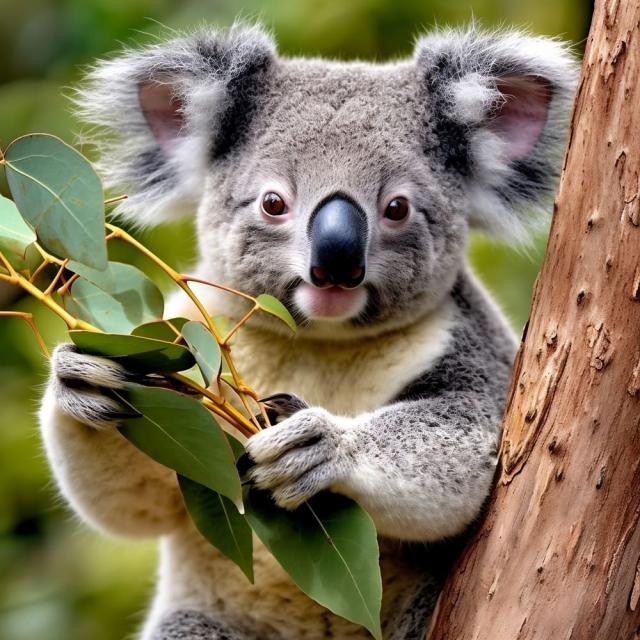Koala: (72, 24, 580, 637)
